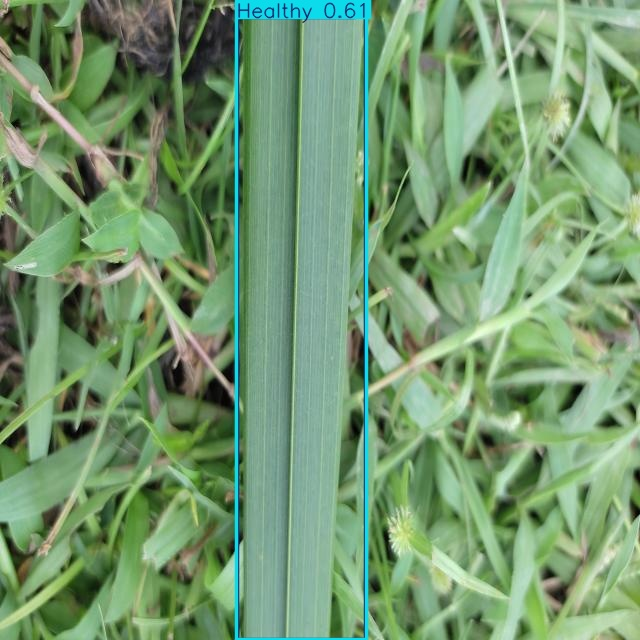Healthy: (237, 0, 367, 640)
nitrogen: (237, 0, 366, 640)
